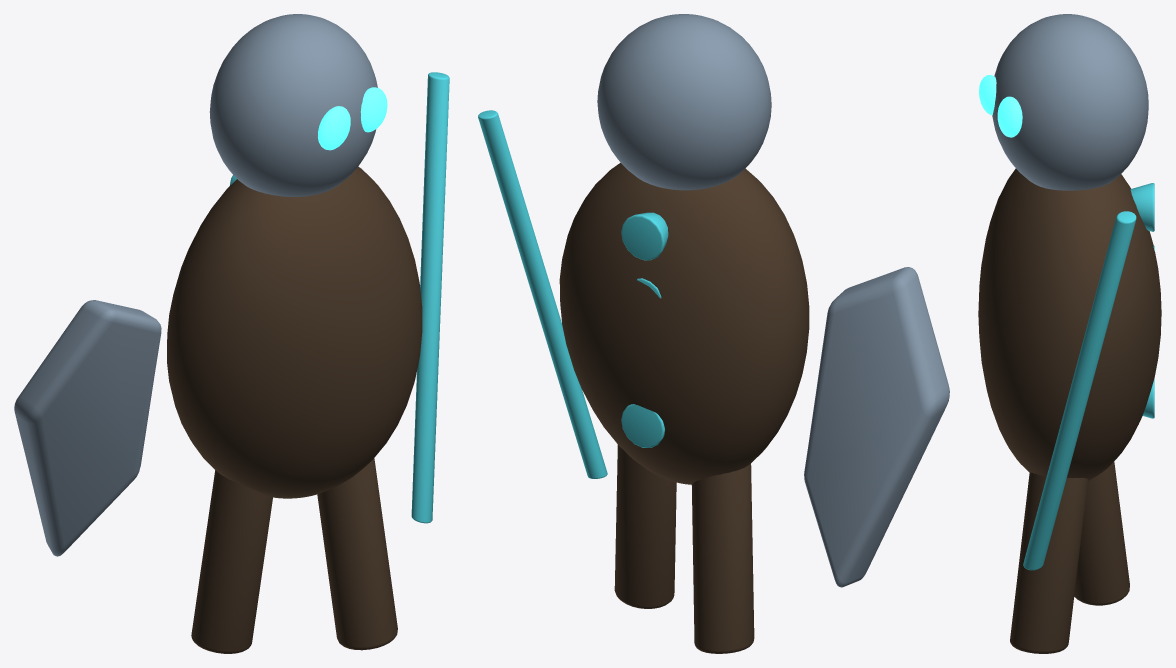
Rendered from undead_v6.glb.
3 renders of one model, left to right at view 1: azimuth 30°, elevation 25°; view 2: azimuth 150°, elevation 25°; view 3: azimuth 270°, elevation 25°, orthographic. The views are drawn at different scales.
Visible parts, largest first — view 1: REVENANT_BODY_SECONDARY, BROKEN_SHIELD_PRIMARY, BROKEN_HELM_PRIMARY, REVENANT_LEG_SECONDARY.001, REVENANT_LEG_SECONDARY, BROKEN_SPEAR_ACCENT, EYE_EMISSIVE, EYE_EMISSIVE.001; view 2: REVENANT_BODY_SECONDARY, BROKEN_SHIELD_PRIMARY, BROKEN_HELM_PRIMARY, REVENANT_LEG_SECONDARY, REVENANT_LEG_SECONDARY.001, BROKEN_SPEAR_ACCENT, DORSAL_SPINE_ACCENT.003, DORSAL_SPINE_ACCENT; view 3: REVENANT_BODY_SECONDARY, BROKEN_HELM_PRIMARY, REVENANT_LEG_SECONDARY.001, BROKEN_SPEAR_ACCENT, REVENANT_LEG_SECONDARY, EYE_EMISSIVE.001, DORSAL_SPINE_ACCENT.003, EYE_EMISSIVE.
Part boxes in pixels (left/top/right/bottom): REVENANT_BODY_SECONDARY: left=167, top=166, right=422, bottom=498; BROKEN_SHIELD_PRIMARY: left=14, top=300, right=161, bottom=556; BROKEN_HELM_PRIMARY: left=209, top=14, right=377, bottom=196; REVENANT_LEG_SECONDARY.001: left=317, top=458, right=397, bottom=650; REVENANT_LEG_SECONDARY: left=191, top=470, right=272, bottom=653; BROKEN_SPEAR_ACCENT: left=411, top=72, right=449, bottom=523; EYE_EMISSIVE: left=318, top=106, right=350, bottom=150; EYE_EMISSIVE.001: left=360, top=87, right=387, bottom=132; REVENANT_BODY_SECONDARY: left=559, top=163, right=809, bottom=484; BROKEN_SHIELD_PRIMARY: left=804, top=267, right=949, bottom=587; BROKEN_HELM_PRIMARY: left=597, top=14, right=771, bottom=190; REVENANT_LEG_SECONDARY: left=691, top=464, right=754, bottom=653; REVENANT_LEG_SECONDARY.001: left=614, top=444, right=676, bottom=608; BROKEN_SPEAR_ACCENT: left=478, top=110, right=607, bottom=478; DORSAL_SPINE_ACCENT.003: left=621, top=212, right=668, bottom=260; DORSAL_SPINE_ACCENT: left=621, top=404, right=664, bottom=447; REVENANT_BODY_SECONDARY: left=978, top=168, right=1161, bottom=480; BROKEN_HELM_PRIMARY: left=992, top=14, right=1148, bottom=190; REVENANT_LEG_SECONDARY.001: left=1010, top=472, right=1087, bottom=653; BROKEN_SPEAR_ACCENT: left=1023, top=211, right=1136, bottom=570; REVENANT_LEG_SECONDARY: left=1074, top=461, right=1129, bottom=605; EYE_EMISSIVE.001: left=997, top=96, right=1022, bottom=137; DORSAL_SPINE_ACCENT.003: left=1130, top=183, right=1154, bottom=231; EYE_EMISSIVE: left=979, top=75, right=996, bottom=115.
Bounding box in the file's own units: 2.2 × 2.89 × 0.7999.
